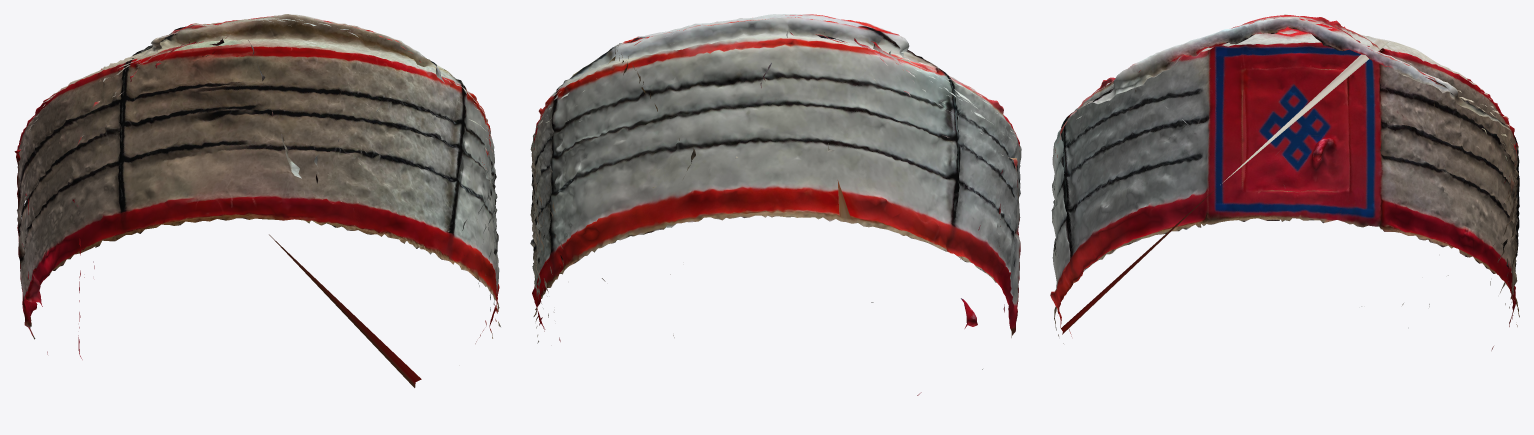
The picture shows the model from 3 angles, left to right: view 1: azimuth 30°, elevation 25°; view 2: azimuth 150°, elevation 25°; view 3: azimuth 270°, elevation 25°; orthographic projection. The views are drawn at different scales.
Parts seen in each view (by area): view 1: Mesh_0.004; view 2: Mesh_0.004; view 3: Mesh_0.004.
Boxes of the visible parts, left/top/right/bottom form: Mesh_0.004: left=14, top=14, right=500, bottom=387; Mesh_0.004: left=530, top=14, right=1021, bottom=395; Mesh_0.004: left=1050, top=14, right=1519, bottom=350.
Bounding box in the file's own units: 18.89 × 12.68 × 18.04.
Materials: 1 (1 with a texture image).
